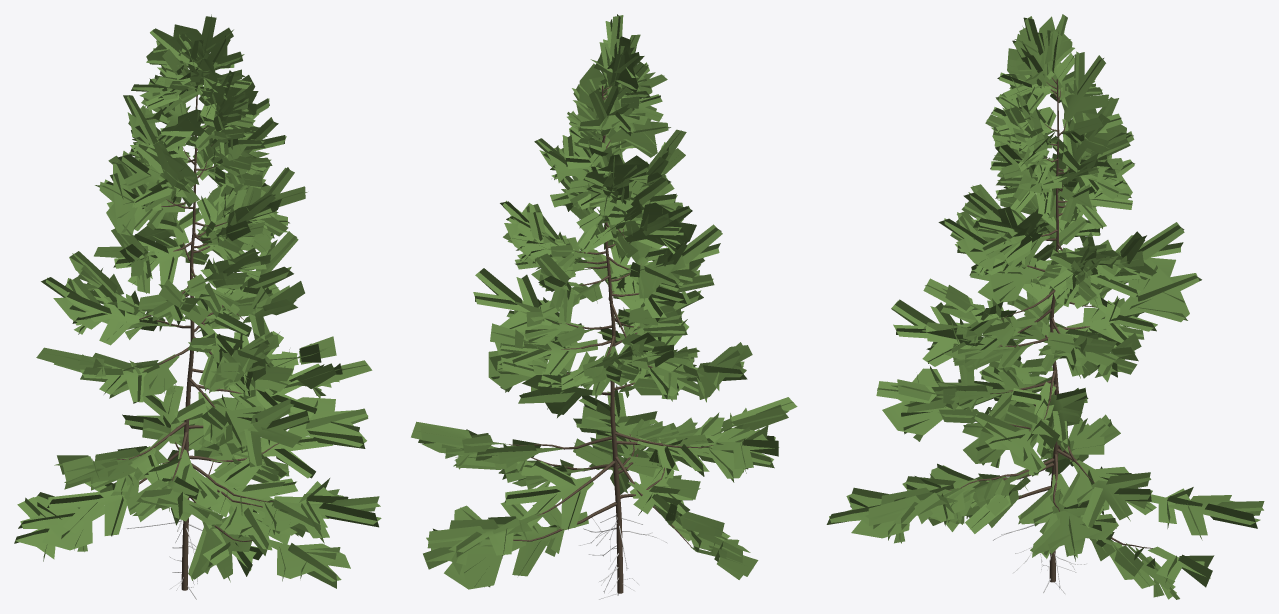
File: Tree1.002_HighDetail.fbx
The picture shows the model from 3 angles, left to right: view 1: azimuth 30°, elevation 25°; view 2: azimuth 150°, elevation 25°; view 3: azimuth 270°, elevation 25°; orthographic projection. The views are drawn at different scales.
Visible parts, largest first — view 1: fir_sapling_medium_b_LOD2; view 2: fir_sapling_medium_b_LOD2; view 3: fir_sapling_medium_b_LOD2.
Part boxes in pixels (x1,y1,x2,y2): fir_sapling_medium_b_LOD2: (14, 14, 381, 599); fir_sapling_medium_b_LOD2: (411, 14, 797, 599); fir_sapling_medium_b_LOD2: (826, 14, 1264, 599).
Bounding box in the file's own units: 495 × 793 × 543.
